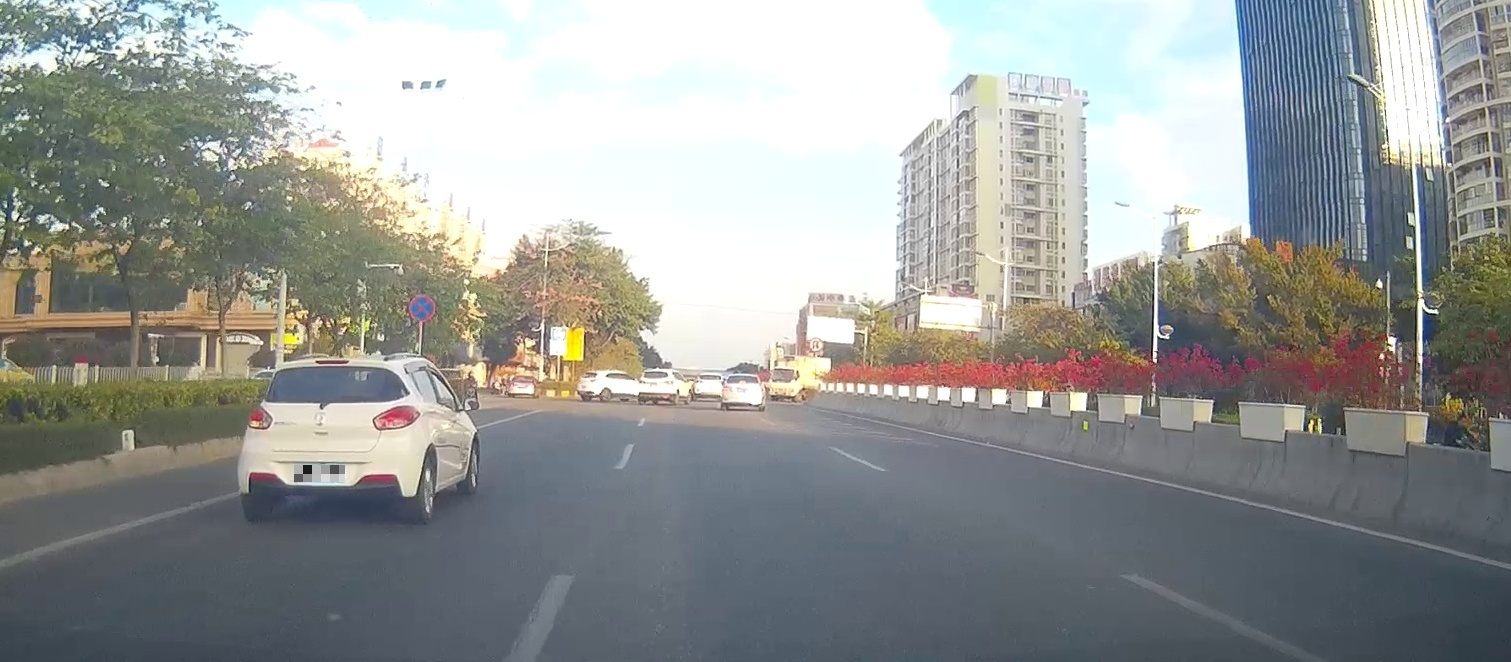L_light: (246, 405, 273, 430)
R_light: (372, 404, 421, 430)
T_light: (316, 360, 349, 364)
day-left: (237, 359, 422, 524)
plate_1: (294, 465, 345, 482)
